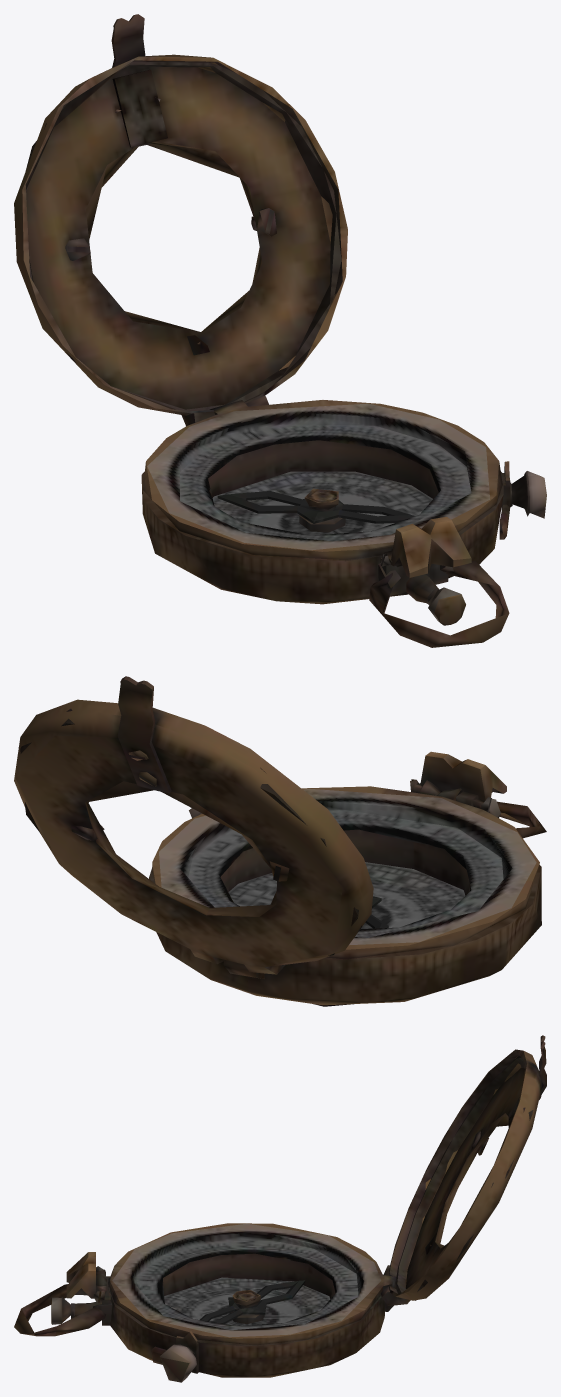
File: seadogs_compass_lod1.glb
3 renders of one model, top to bottom at view 1: azimuth 30°, elevation 25°; view 2: azimuth 150°, elevation 25°; view 3: azimuth 270°, elevation 25°, orthographic. The views are drawn at different scales.
Visible parts, largest first — view 1: seadogs_compass; view 2: seadogs_compass; view 3: seadogs_compass.
Boxes of the visible parts, x1,y1,x2,y2 form: seadogs_compass: [14, 14, 546, 647]; seadogs_compass: [14, 676, 546, 1006]; seadogs_compass: [14, 1035, 546, 1382].
Bounding box in the file's own units: 0.0811 × 0.0864 × 0.144.
Materials: 1 (1 with a texture image).
